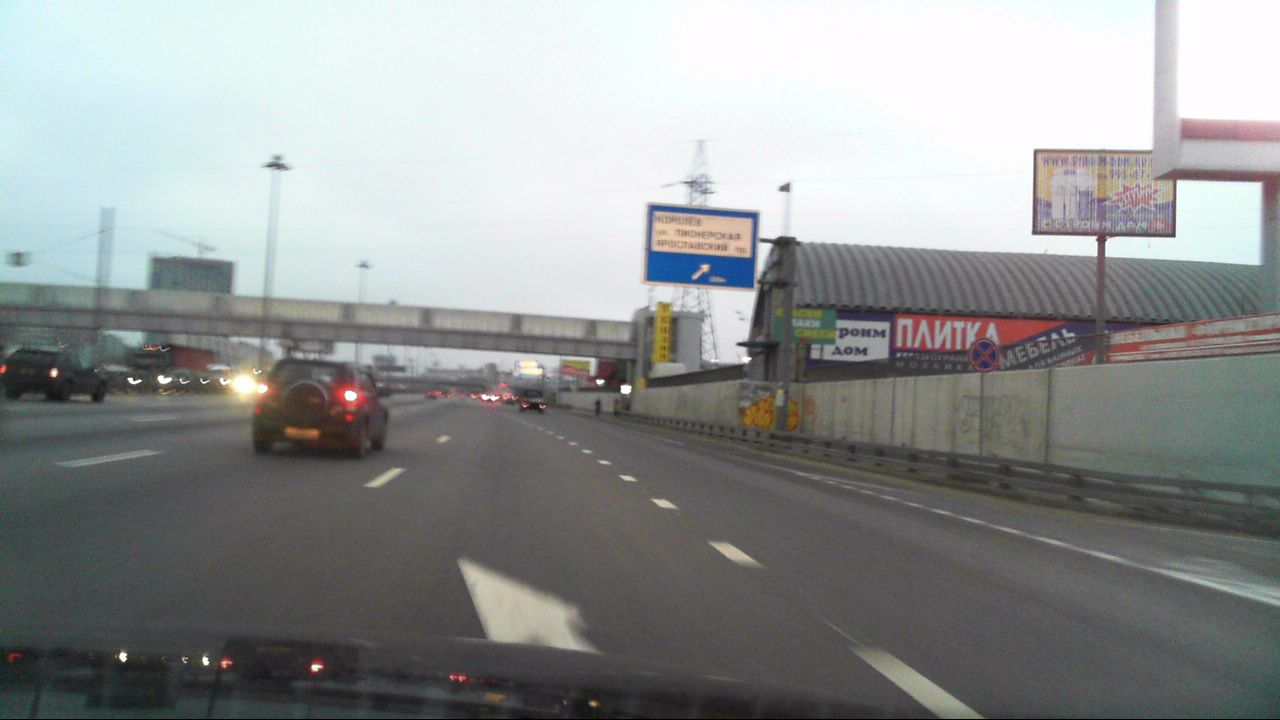No Parking: (970, 339, 1000, 373)
